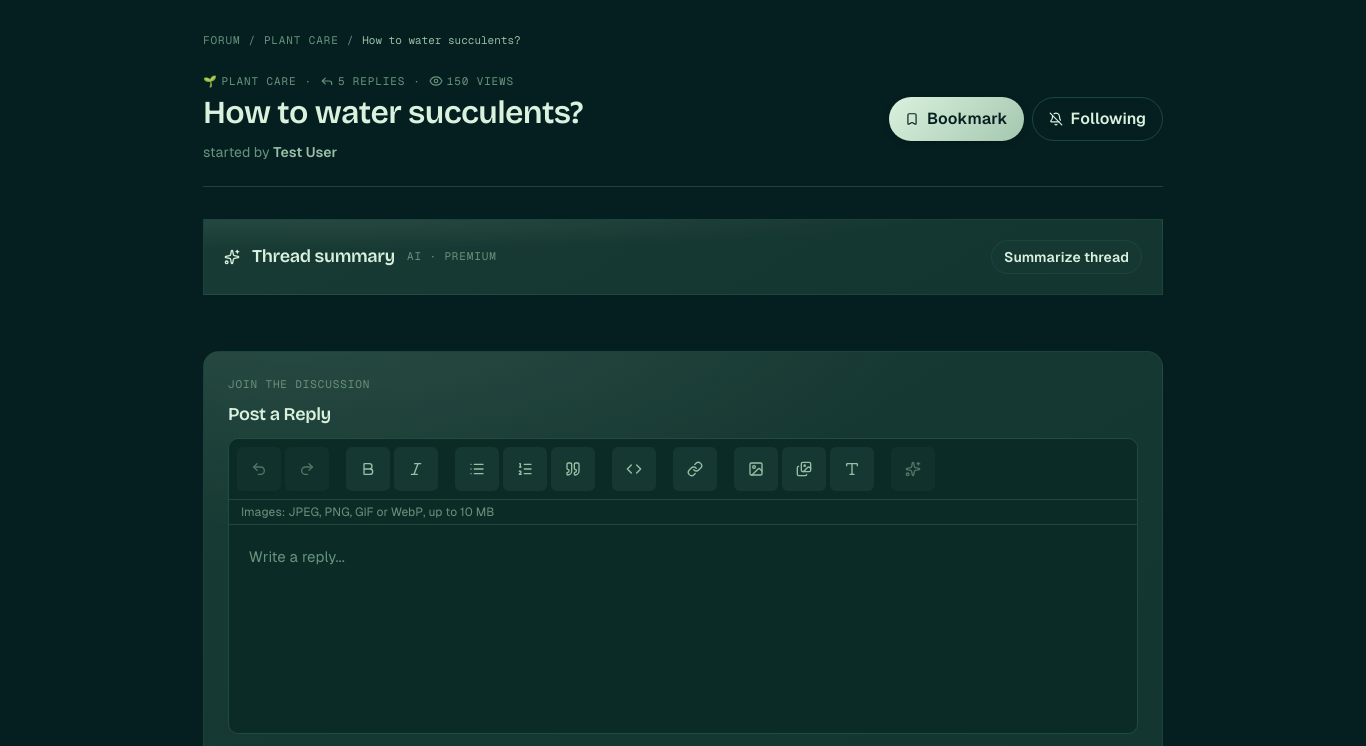
Test: ThreadDetailPage › clicking Following unsubscribes and flips the button back to Follow
The image size is (1366, 746).
Click the button "Following": click(1097, 119) [1032,97,1163,141]
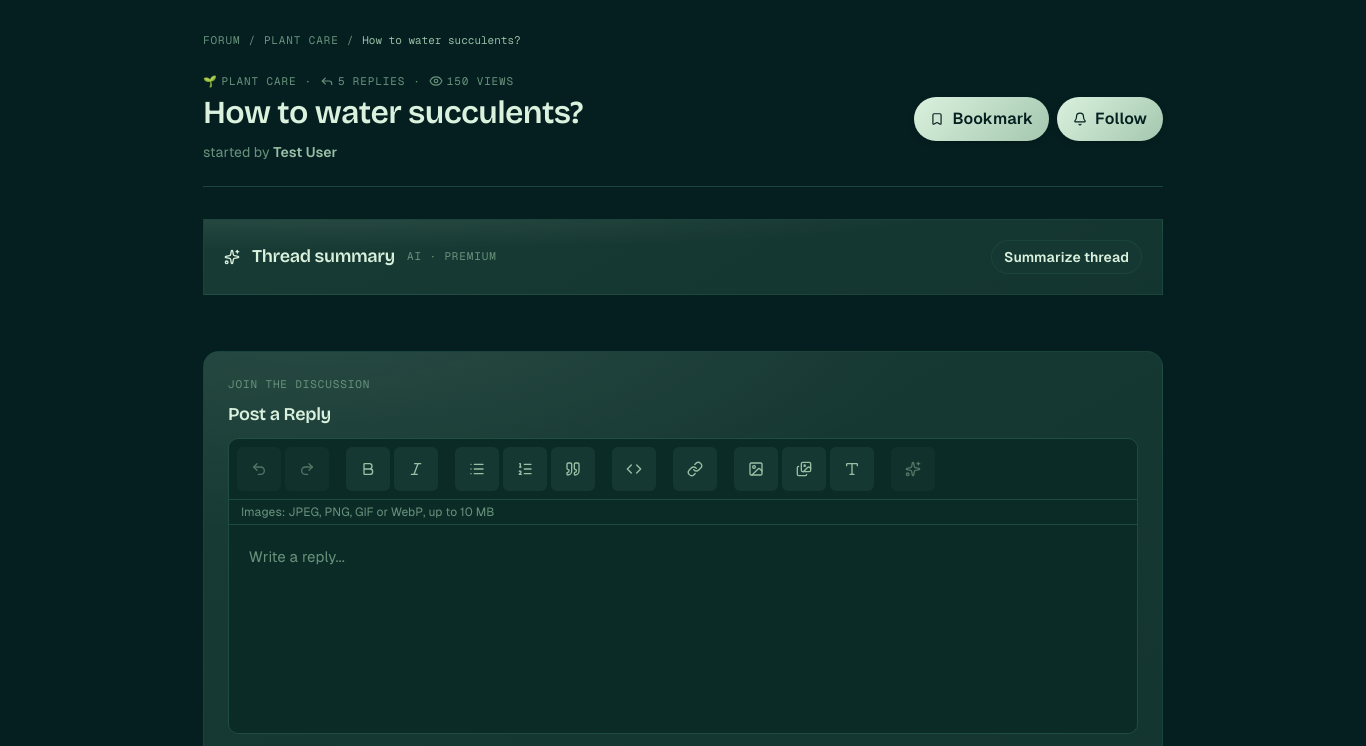
Check: the button "Follow" is shown, box [1057,97,1163,141]
